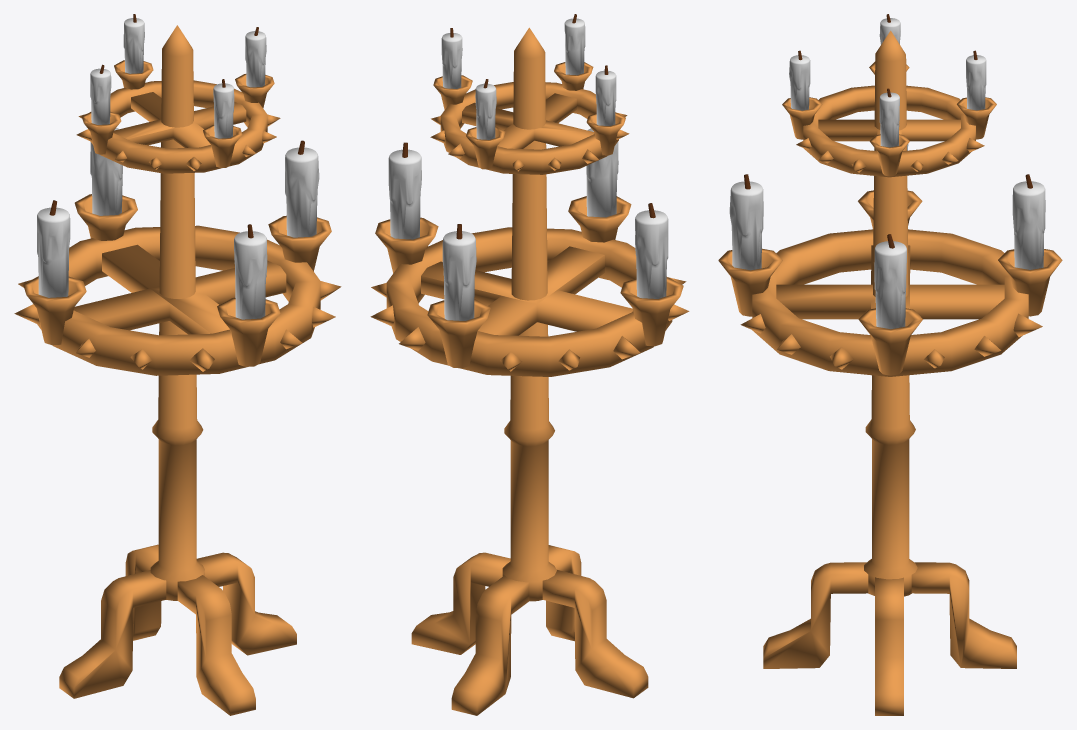
Rendered from CandleHolder.fbx.
The picture shows the model from 3 angles, left to right: view 1: azimuth 30°, elevation 25°; view 2: azimuth 150°, elevation 25°; view 3: azimuth 270°, elevation 25°; orthographic projection.
Parts seen in each view (by area): view 1: Cone.019; view 2: Cone.019; view 3: Cone.019.
Boxes of the visible parts, box(x1,y1,x2,y2) form: Cone.019: box(14, 14, 341, 715); Cone.019: box(370, 14, 689, 715); Cone.019: box(718, 14, 1062, 715).
Bounding box in the file's own units: 99.81 × 202 × 99.81.
